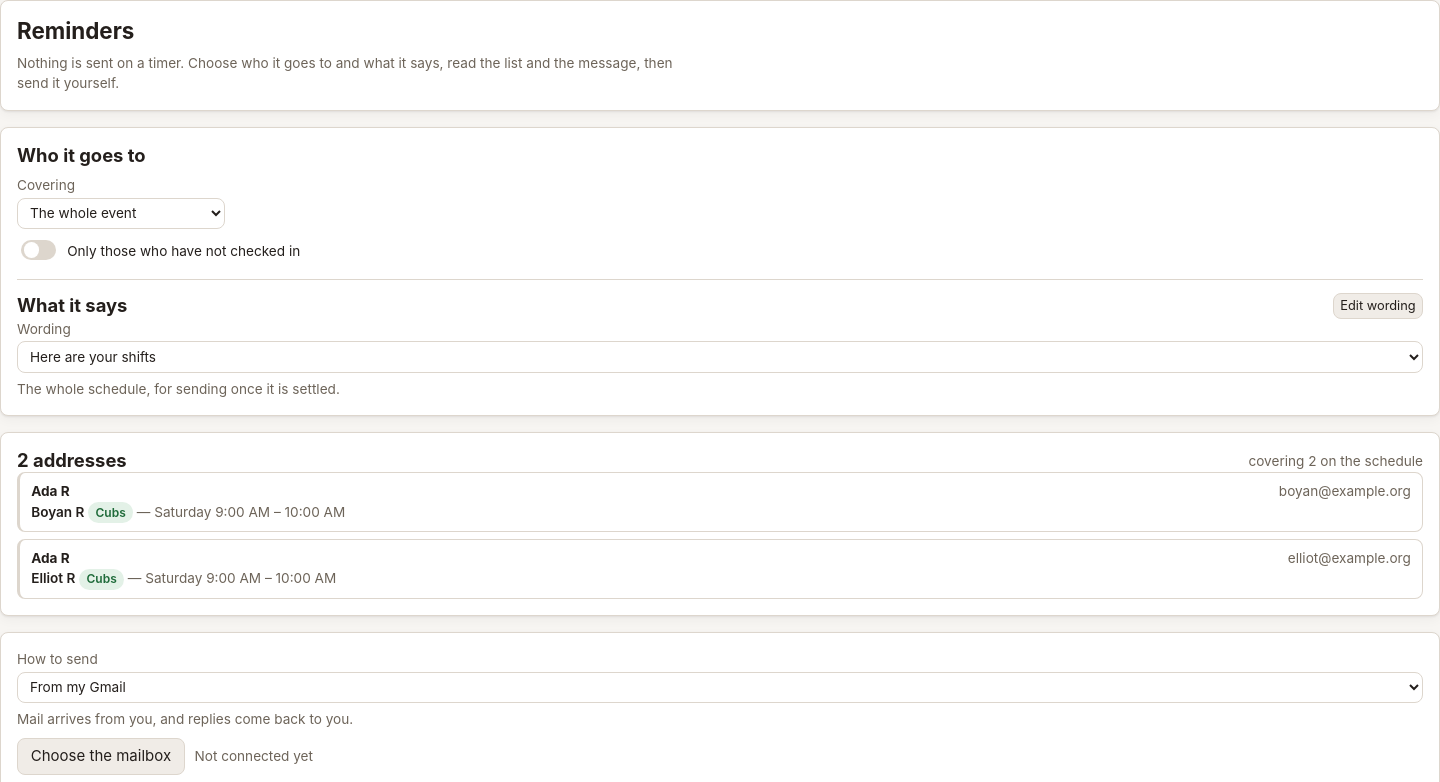
Scenario: the wording and the filter › follows the new wording default when the wording changes
This screenshot has width=1440, height=782.
Select "One day" in the dropdown labelled "Covering" at (121, 213), box [17, 198, 225, 229]
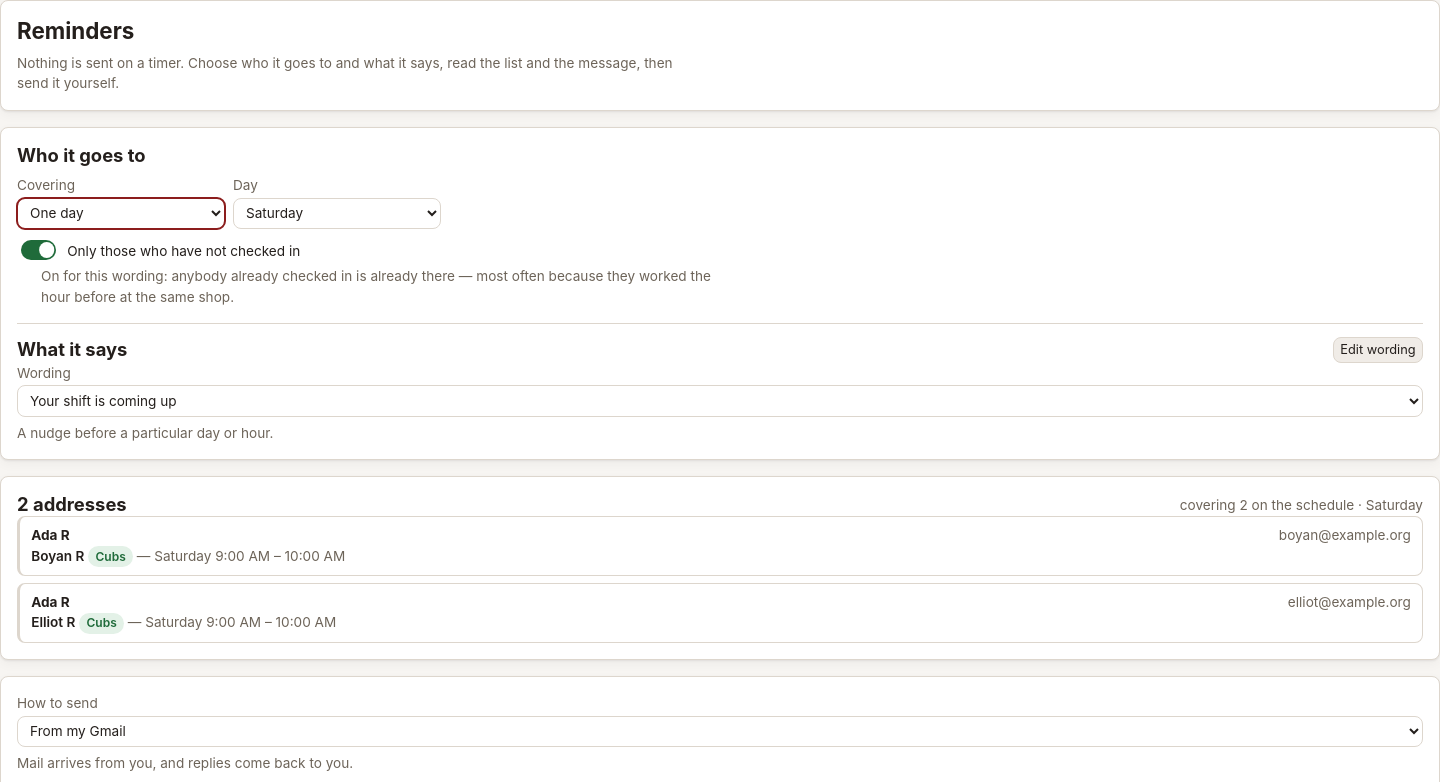
# Off for the schedule wording…
Select "Here are your shifts" in the dropdown labelled "Wording" at (720, 401), box [17, 386, 1423, 417]
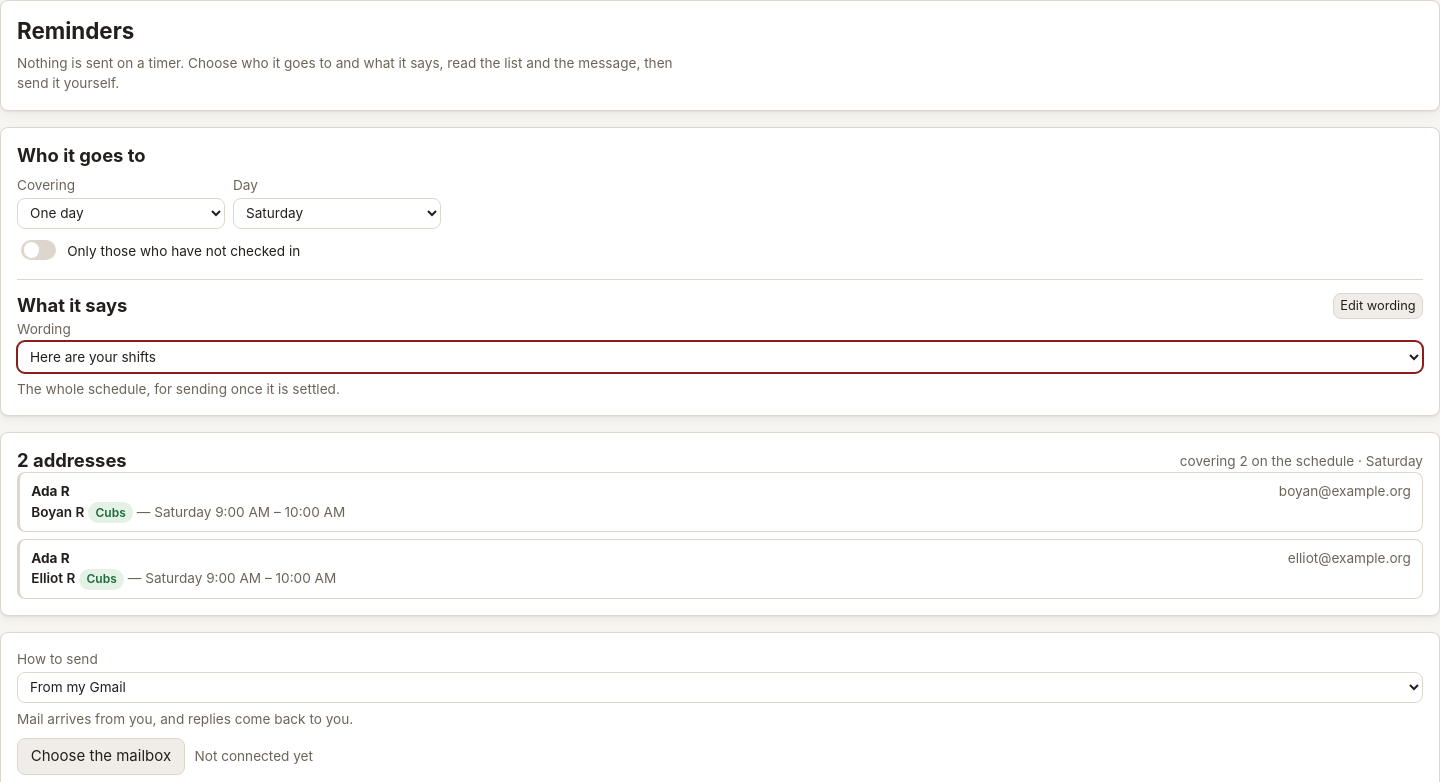
Result: the checkbox labelled "Only those who have not checked in" is not checked at [21, 240, 56, 260]
# …and back on for the one that is about an hour.
Select "Your shift is coming up" in the dropdown labelled "Wording" at (720, 357), box [17, 342, 1423, 373]
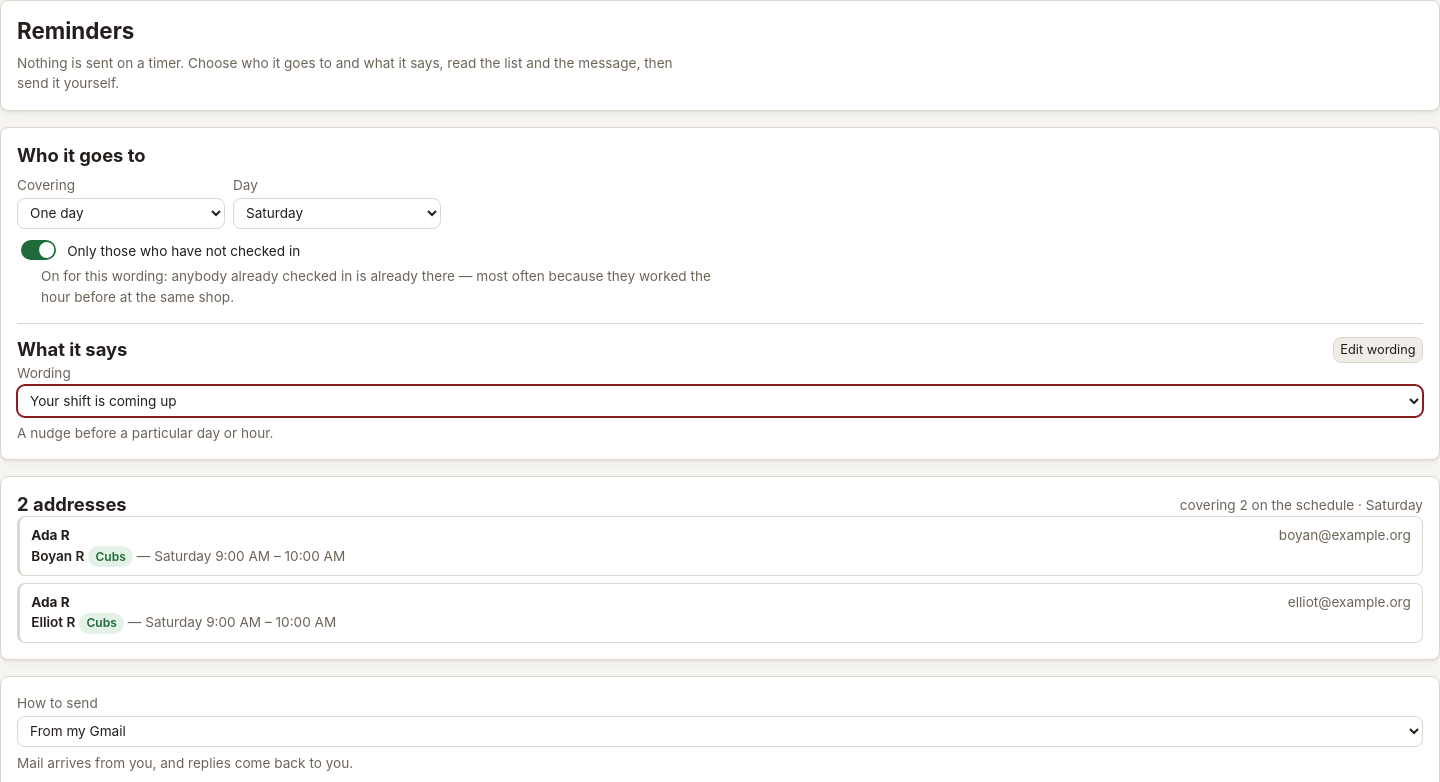
Result: the checkbox labelled "Only those who have not checked in" is checked at [21, 240, 56, 260]
